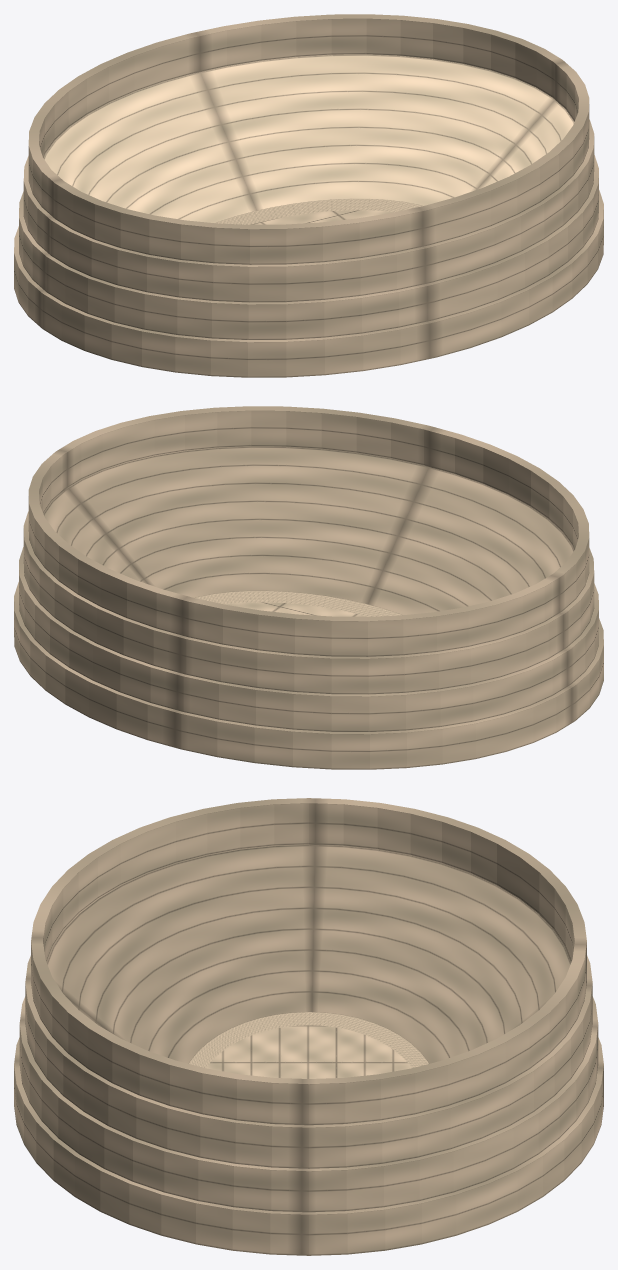
The picture shows the model from 3 angles, top to bottom: view 1: azimuth 30°, elevation 25°; view 2: azimuth 150°, elevation 25°; view 3: azimuth 270°, elevation 25°; orthographic projection. The views are drawn at different scales.
Parts seen in each view (by area): view 1: Colosseum; view 2: Colosseum; view 3: Colosseum.
Part boxes in pixels (bbox=[...]): Colosseum: bbox=[14, 14, 603, 377]; Colosseum: bbox=[14, 406, 603, 769]; Colosseum: bbox=[14, 798, 603, 1255].
Size of the model in its own units: 188 by 48 by 156.
Materials: 1 (1 with a texture image).
